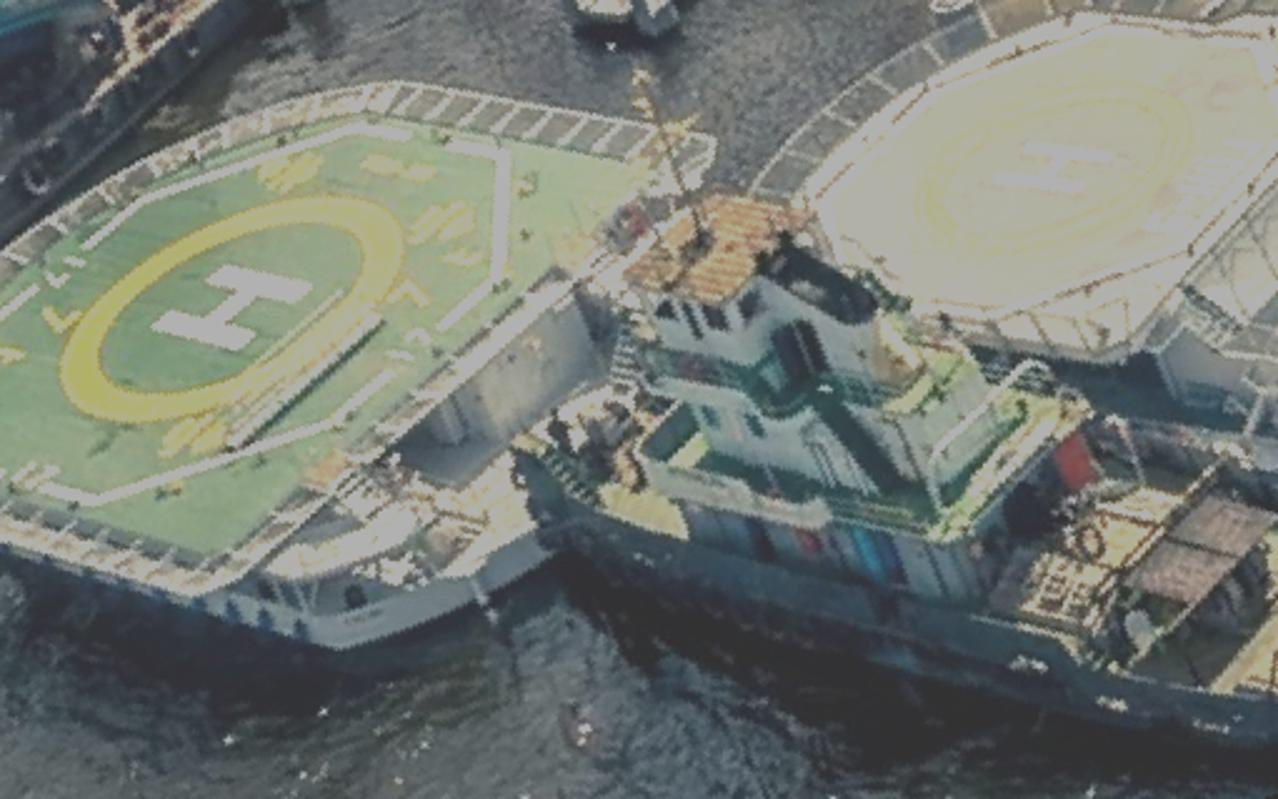Apron: (50, 191, 419, 423), (908, 79, 1233, 280)
